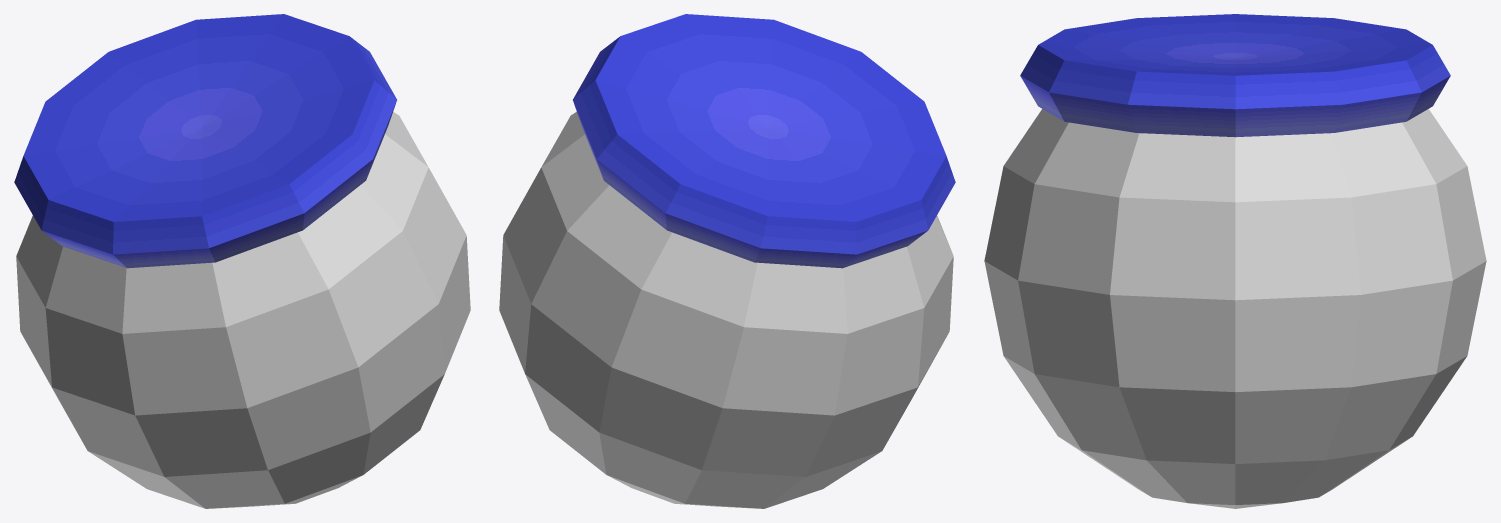
File: diver_helm.dae
The picture shows the model from 3 angles, left to right: view 1: azimuth 30°, elevation 25°; view 2: azimuth 150°, elevation 25°; view 3: azimuth 270°, elevation 25°; orthographic projection. The views are drawn at different scales.
Visible parts, largest first — view 1: m0, m1; view 2: m0, m1; view 3: m0, m1.
Boxes of the visible parts, x1,y1,x2,y2 form: m0: (16,111,470,508); m1: (14,14,396,268); m0: (499,111,953,508); m1: (573,14,955,268); m0: (984,109,1486,508); m1: (1020,14,1450,137).
Size of the model in its own units: 86.12 by 88.18 by 85.8.
Materials: 2 (1 with a texture image).
